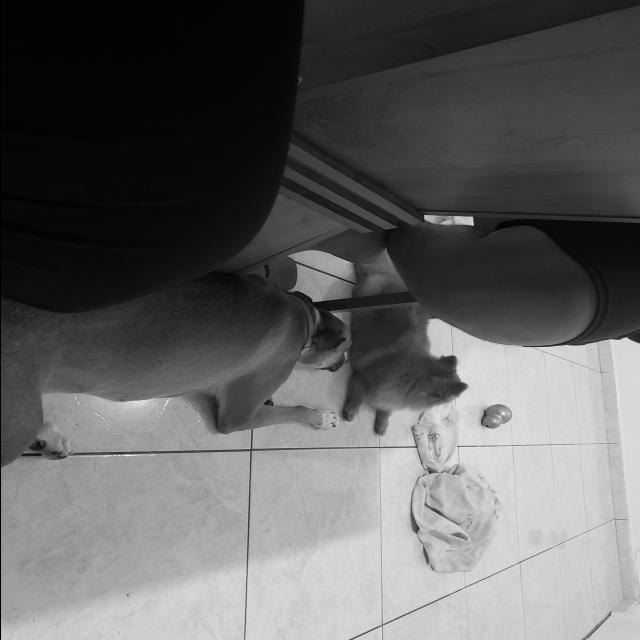laying down: (0, 241, 352, 477), (337, 254, 468, 440)
